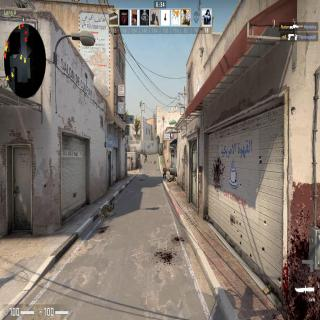CT-Body: (163, 168, 166, 178), (144, 153, 147, 162)
CT-Head: (163, 167, 165, 170), (145, 154, 146, 156)
